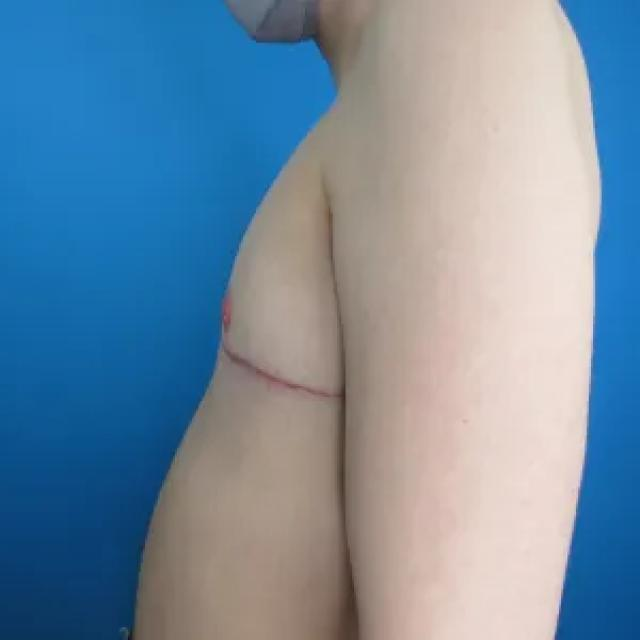Seno herido: (214, 177, 348, 417)
